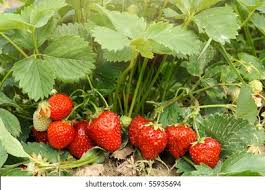ripe: (138, 118, 173, 162), (90, 107, 123, 153), (67, 113, 98, 161), (165, 118, 197, 161), (191, 135, 223, 171), (45, 119, 77, 152), (43, 91, 74, 122), (128, 109, 146, 148)
unripe: (31, 109, 54, 133)
